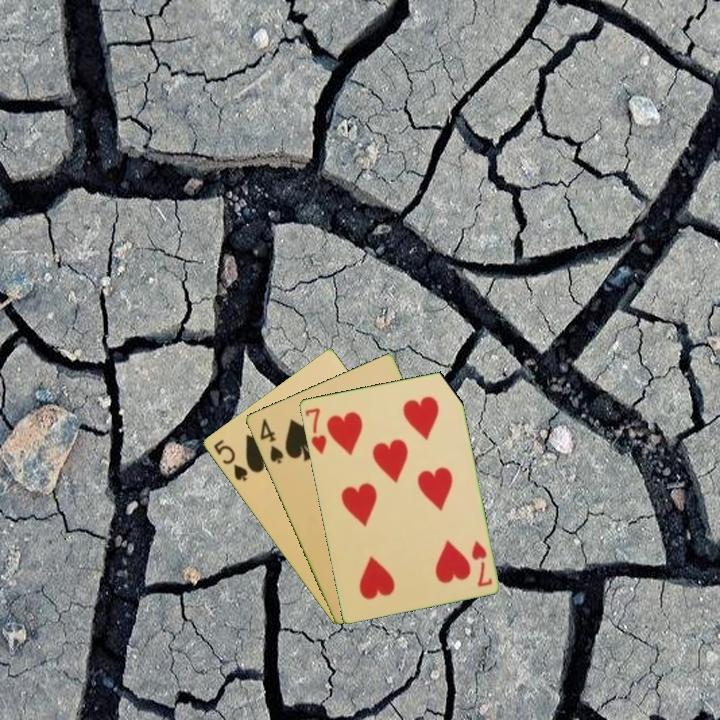4s: (256, 414, 286, 467)
5s: (209, 436, 250, 484)
7h: (301, 404, 329, 457), (467, 537, 495, 590)
